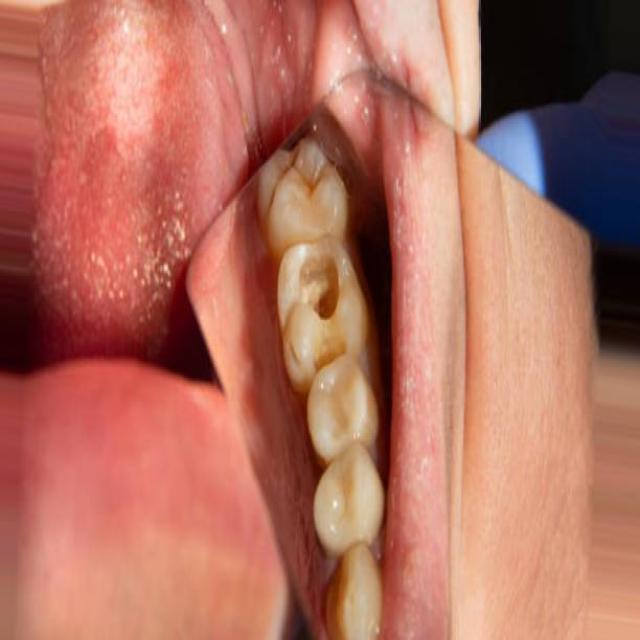caries: (289, 239, 363, 365)
